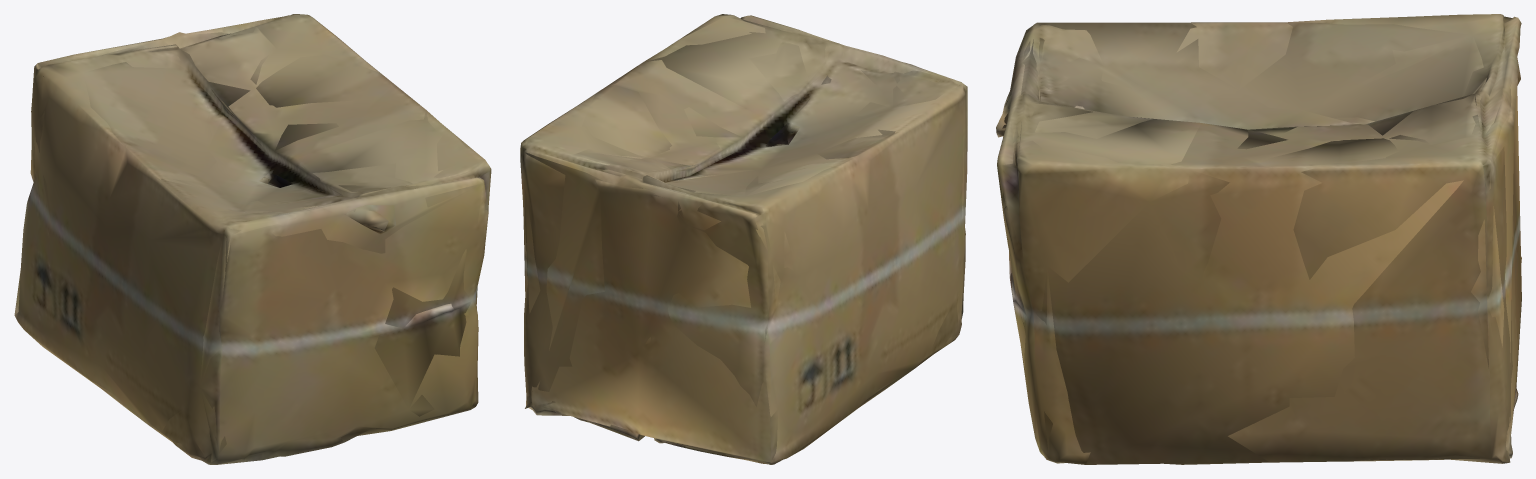
The model's file is cardboard_box_01.glb.
3 views of the same model, side by side, from view 1: azimuth 30°, elevation 25°; view 2: azimuth 150°, elevation 25°; view 3: azimuth 270°, elevation 25° (orthographic). The views are drawn at different scales.
Visible parts, largest first — view 1: cardboard_box_01, cardboard_box_01_lo; view 2: cardboard_box_01, cardboard_box_01_lo; view 3: cardboard_box_01_lo, cardboard_box_01.
Boxes of the visible parts, x1,y1,x2,y2 form: cardboard_box_01: (14,14,491,464); cardboard_box_01_lo: (14,26,489,464); cardboard_box_01: (520,14,967,464); cardboard_box_01_lo: (521,17,967,462); cardboard_box_01_lo: (997,16,1521,464); cardboard_box_01: (996,14,1521,464).
Bounding box in the file's own units: 0.3868 × 0.3418 × 0.5159.
1 material, 1 textured.
